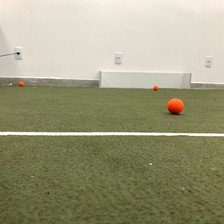ball: (166, 95, 184, 115), (15, 78, 25, 88), (150, 82, 158, 92)
goal: (95, 67, 192, 92)
